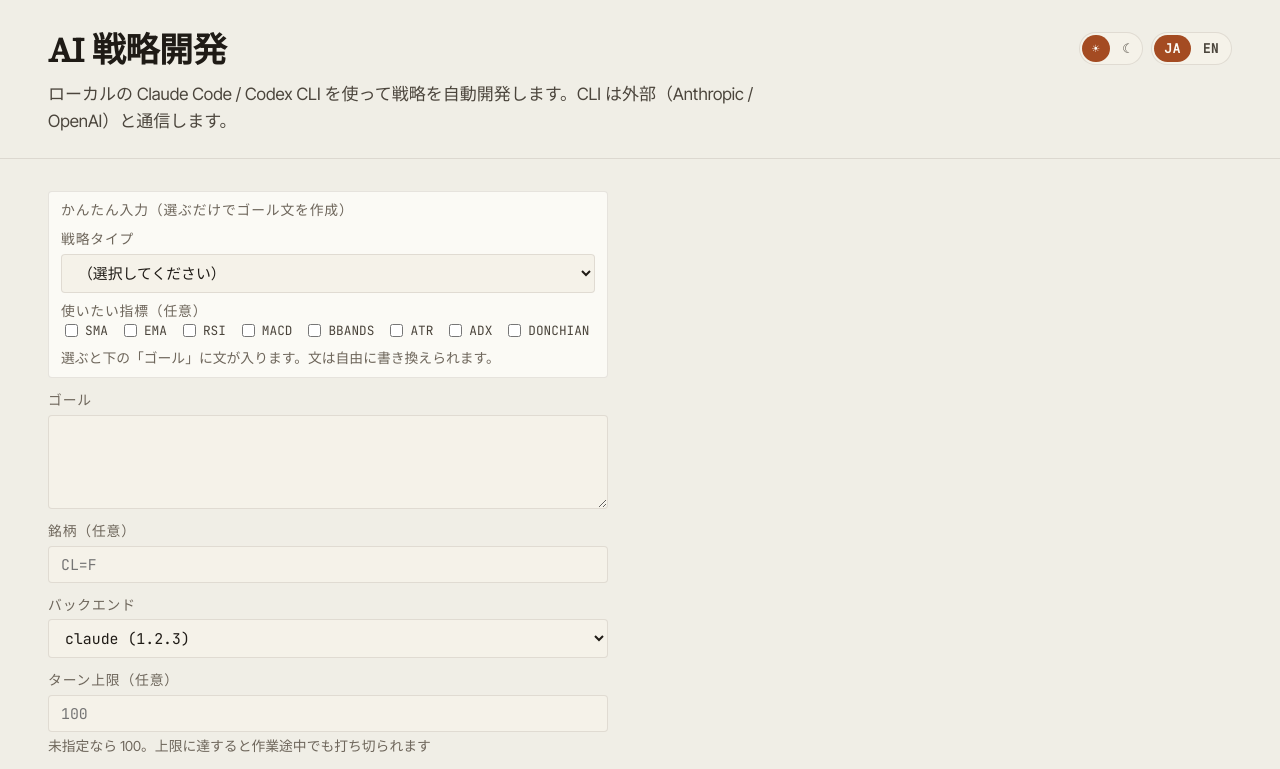
Test: <DevelopScreen /> › codex を選ぶとターン上限の入力欄は出ない（codex exec に相当フラグが無い）
Check: the number field labelled "ターン上限（任意） 未指定なら 100。上限に達すると作業途中でも打ち切られます" is shown, box [48, 695, 608, 732]
Select "codex (0.9.0)" in the dropdown labelled "バックエンド" at (328, 639), box [48, 619, 608, 658]
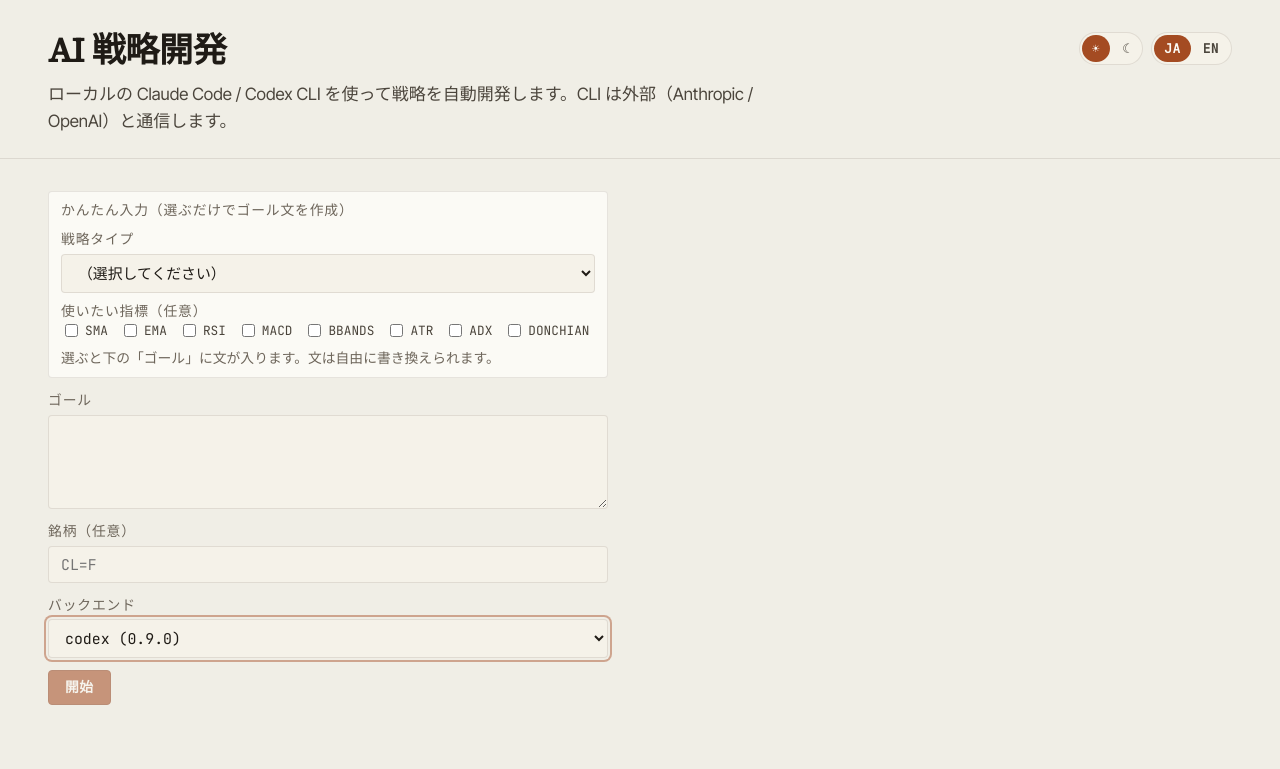
Check: the label labelled "ターン上限" is gone
